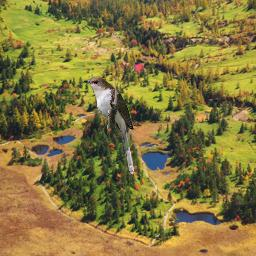Cuckoo: (81, 76, 134, 175)
